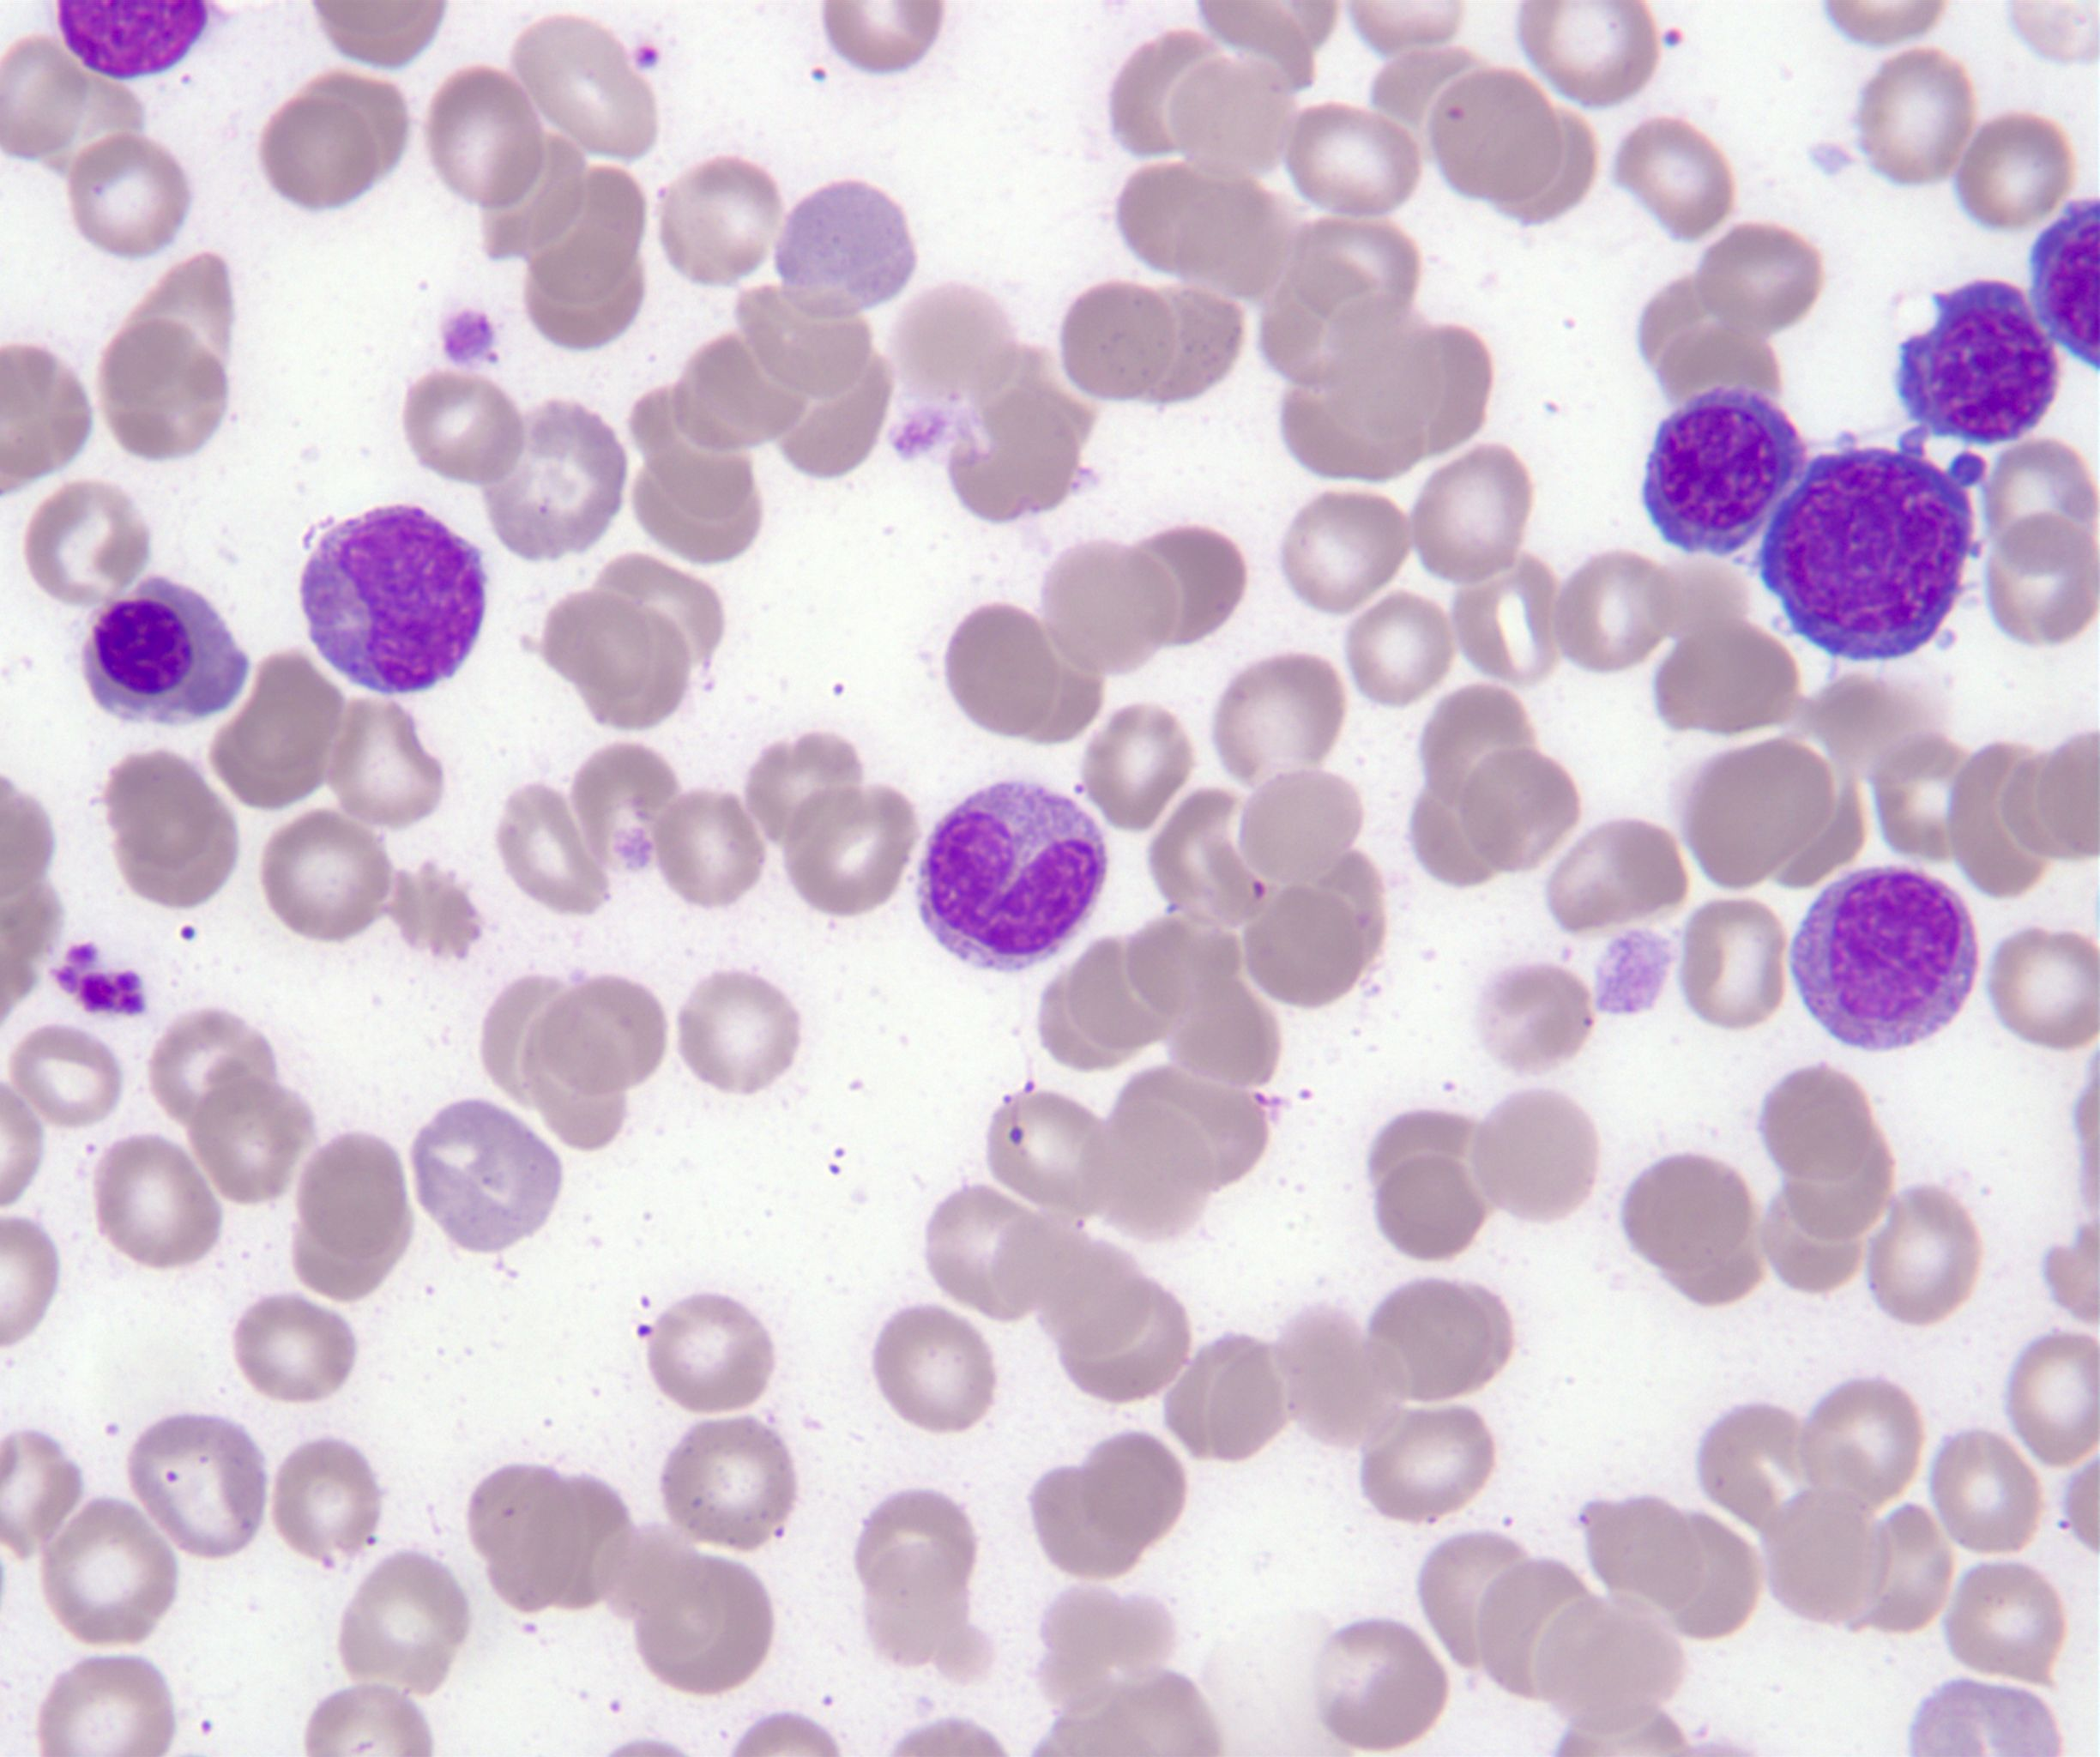22: (1760, 427, 1985, 663), (1645, 387, 1809, 557), (1896, 277, 2058, 441)
23: (84, 574, 246, 728)
3: (1790, 867, 1978, 1050)
5: (919, 780, 1106, 972)
x: (302, 504, 481, 691), (2032, 201, 2100, 370), (58, 3, 208, 79)
